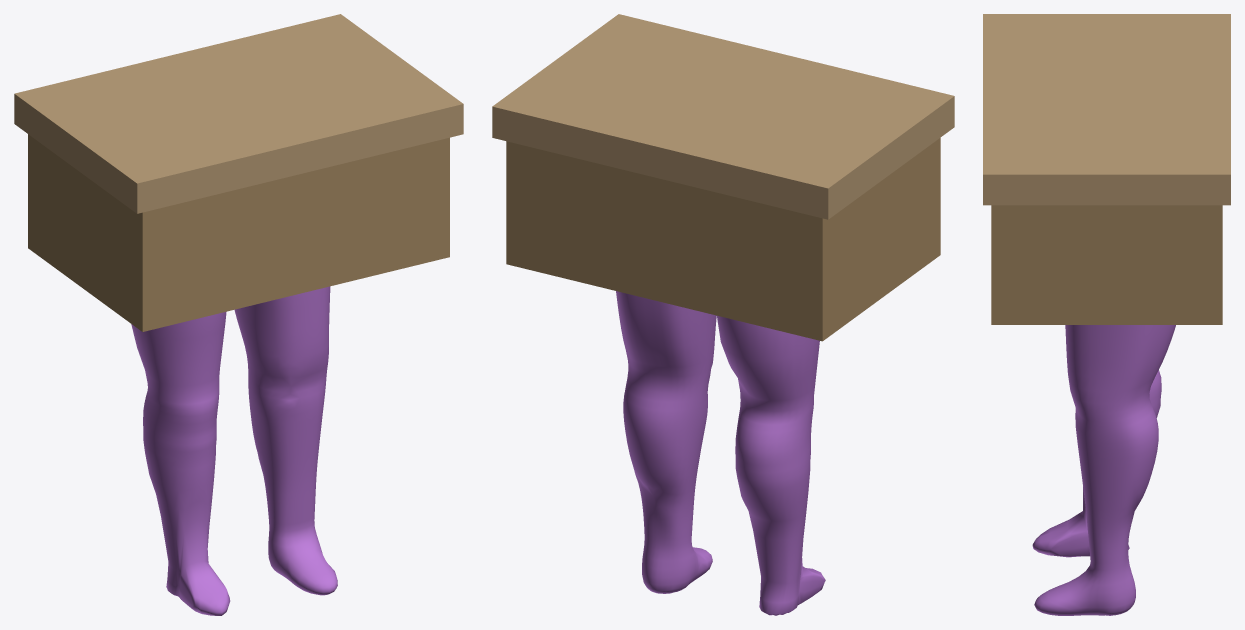
File: Boxyy.fbx
3 views of the same model, side by side, from view 1: azimuth 30°, elevation 25°; view 2: azimuth 150°, elevation 25°; view 3: azimuth 270°, elevation 25° (orthographic). The views are drawn at different scales.
Visible parts, largest first — view 1: pCube12, pCube11, LeftLeg, pCylinder23; view 2: pCube12, pCube11, LeftLeg, pCylinder23; view 3: pCube12, pCube11, LeftLeg, pCylinder23.
Boxes of the visible parts, bbox=[...] form: pCube12: bbox=[14, 14, 463, 213]; pCube11: bbox=[28, 134, 449, 331]; LeftLeg: bbox=[234, 286, 337, 595]; pCylinder23: bbox=[131, 311, 230, 615]; pCube12: bbox=[492, 14, 954, 219]; pCube11: bbox=[506, 138, 940, 341]; LeftLeg: bbox=[616, 291, 716, 593]; pCylinder23: bbox=[717, 315, 825, 615]; pCube12: bbox=[983, 14, 1230, 205]; pCube11: bbox=[991, 205, 1222, 324]; LeftLeg: bbox=[1034, 325, 1175, 615]; pCylinder23: bbox=[1032, 370, 1161, 557].
Size of the model in its own units: 1.32 by 1.88 by 0.86.
